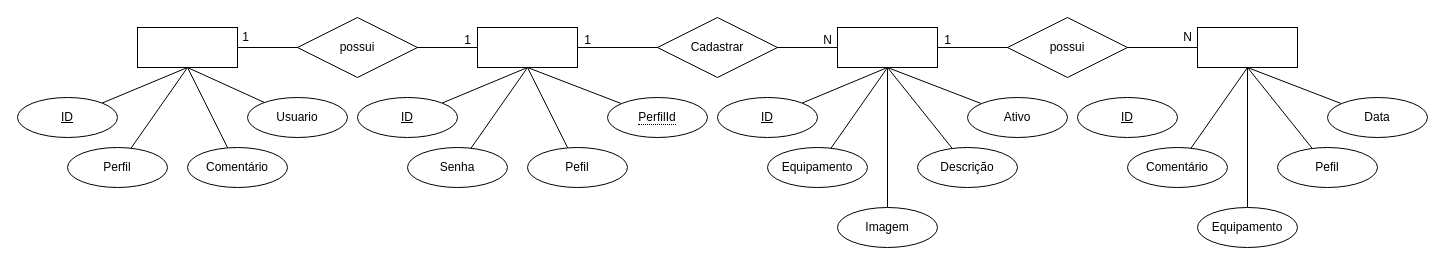
The diagram is 1445 pixels wide and 265 high, and some of its shapes have lost their labels. Here are the shapes that lost their labels. From the top down, the centre of each, then its label:
the point at 187,47: Perfis
the point at 527,47: Usuários
the point at 887,47: Equipamentos
the point at 1247,47: Comentários
